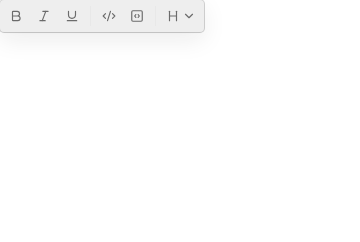
Test case: FloatingToolbar.svelte: dropdown заголовков (MDP-18) › Escape закрывает открытое меню (fail-closed)
The width and height of the screenshot is (360, 242).
Click the button named "Уровень заголовка" at (181, 16), box top-left (162, 4), bottom-right (200, 28)
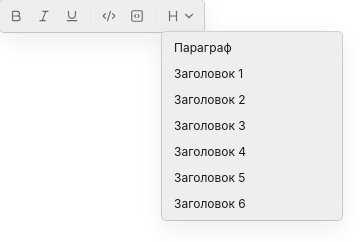
Check: the menu is shown, box top-left (162, 32), bottom-right (342, 220)
Press Escape
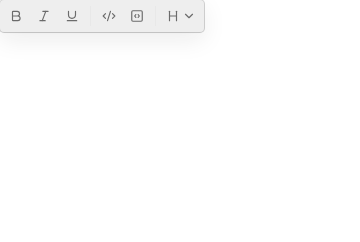
Check: the menu is gone
